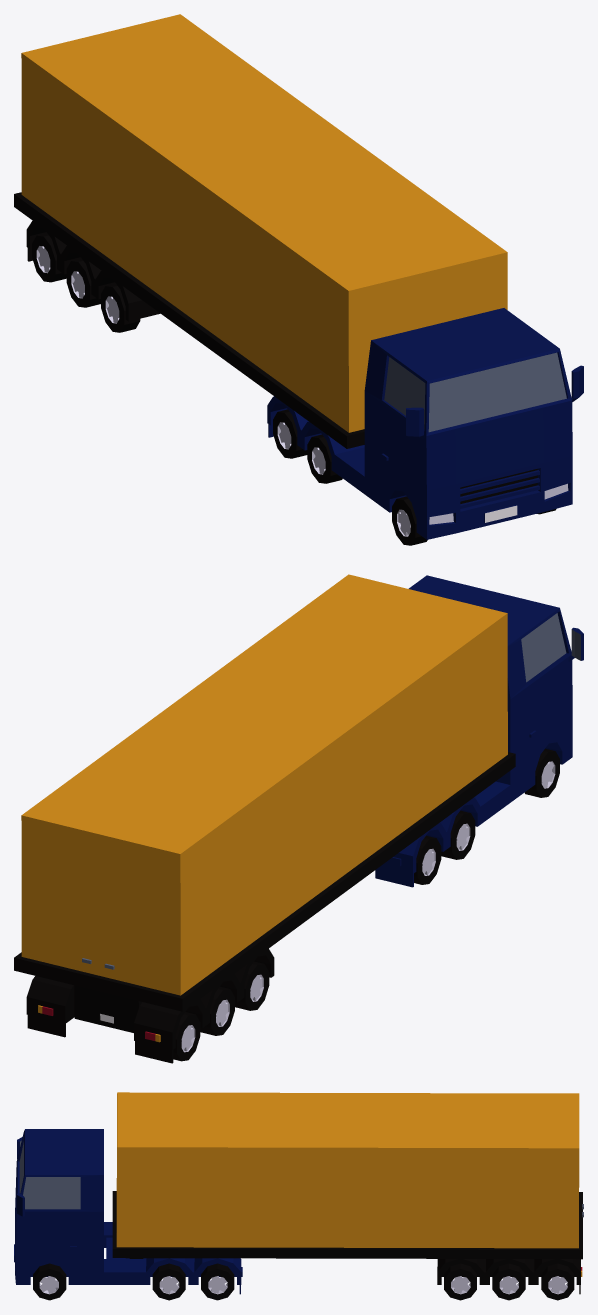
3 views of the same model, one above another, from view 1: azimuth 30°, elevation 25°; view 2: azimuth 150°, elevation 25°; view 3: azimuth 270°, elevation 25° (orthographic). The views are drawn at different scales.
Parts seen in each view (by area): view 1: Truck with trailer, Truck with trailer wheel rear right 3, Truck with trailer wheel rear right 4, Truck with trailer wheel rear right 5, Truck with trailer wheel front right, Truck with trailer wheel rear right 2, Truck with trailer wheel rear right; view 2: Truck with trailer, Truck with trailer wheel rear right, Truck with trailer wheel rear right 3, Truck with trailer wheel rear right 4, Truck with trailer wheel front right, Truck with trailer wheel rear right 5, Truck with trailer wheel rear right 2; view 3: Truck with trailer, Truck with trailer wheel rear left 2, Truck with trailer wheel front left, Truck with trailer wheel rear left 4, Truck with trailer wheel rear left, Truck with trailer wheel rear left 5, Truck with trailer wheel rear left 3.
Part boxes in pixels (x1=…): Truck with trailer: x1=14, y1=14, x2=583, y2=539; Truck with trailer wheel rear right 3: x1=101, y1=283, x2=140, y2=332; Truck with trailer wheel rear right 4: x1=66, y1=258, x2=100, y2=307; Truck with trailer wheel rear right 5: x1=32, y1=233, x2=66, y2=282; Truck with trailer wheel front right: x1=392, y1=496, x2=427, y2=545; Truck with trailer wheel rear right 2: x1=273, y1=409, x2=307, y2=458; Truck with trailer wheel rear right: x1=307, y1=434, x2=342, y2=483; Truck with trailer: x1=14, y1=574, x2=583, y2=1063; Truck with trailer wheel rear right: x1=441, y1=810, x2=475, y2=859; Truck with trailer wheel rear right 3: x1=235, y1=961, x2=269, y2=1010; Truck with trailer wheel rear right 4: x1=200, y1=986, x2=234, y2=1035; Truck with trailer wheel front right: x1=524, y1=748, x2=559, y2=797; Truck with trailer wheel rear right 5: x1=173, y1=1012, x2=200, y2=1061; Truck with trailer wheel rear right 2: x1=414, y1=835, x2=441, y2=884; Truck with trailer: x1=14, y1=1092, x2=583, y2=1294; Truck with trailer wheel rear left 2: x1=201, y1=1263, x2=234, y2=1300; Truck with trailer wheel front left: x1=33, y1=1263, x2=66, y2=1300; Truck with trailer wheel rear left 4: x1=492, y1=1263, x2=525, y2=1300; Truck with trailer wheel rear left: x1=152, y1=1263, x2=185, y2=1300; Truck with trailer wheel rear left 5: x1=541, y1=1263, x2=574, y2=1300; Truck with trailer wheel rear left 3: x1=444, y1=1263, x2=476, y2=1300.
Bounding box in the file's own units: 3.41 × 4.05 × 13.42.
